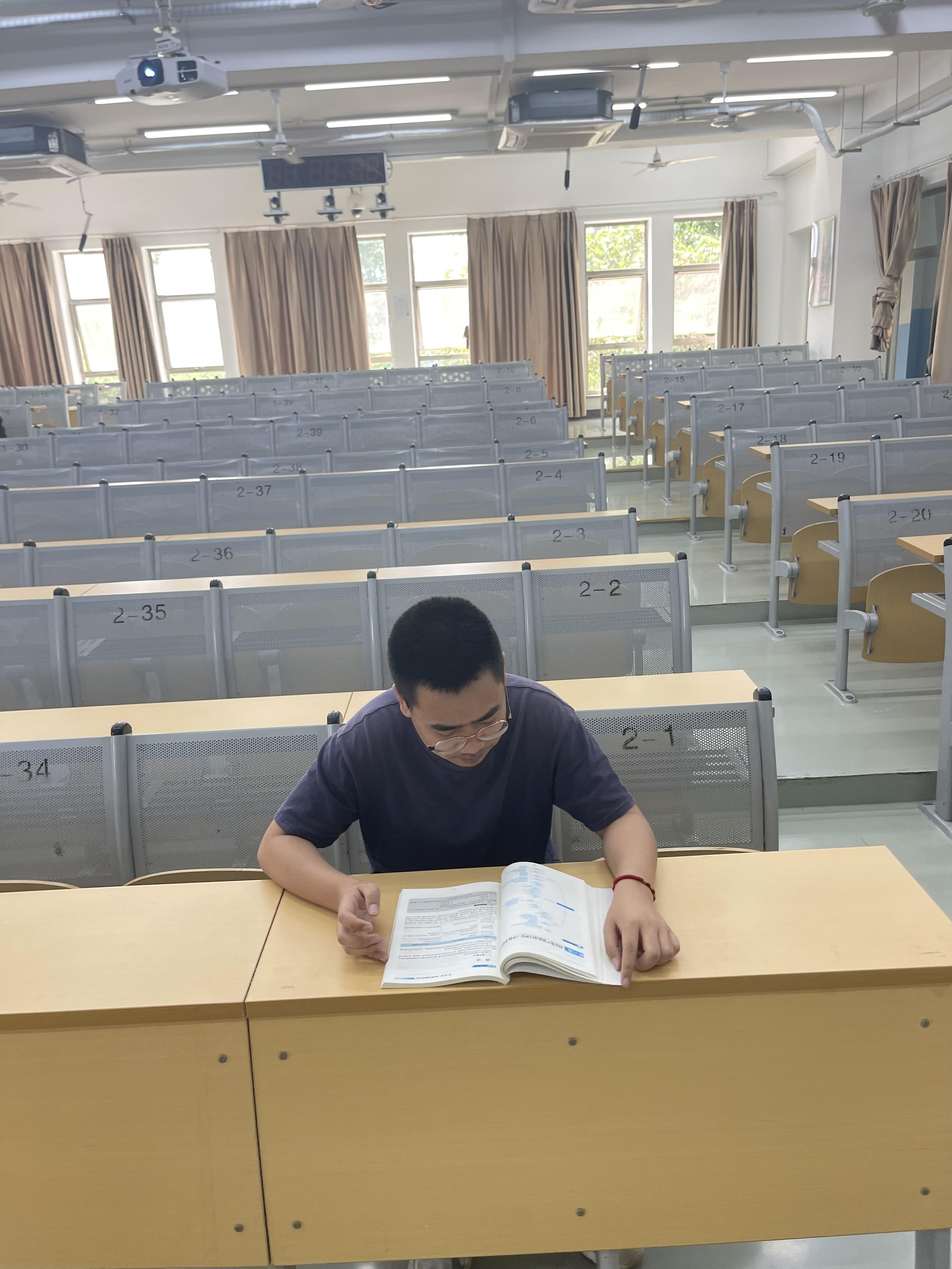study: (257, 600, 681, 975)
